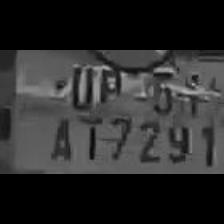1: (195, 113, 219, 167)
2: (132, 114, 160, 166)
5: (146, 68, 176, 116)
7: (103, 109, 131, 163)
9: (164, 119, 190, 163)
A: (45, 111, 75, 163)
P: (96, 56, 124, 106)
T: (74, 113, 102, 162)
U: (66, 60, 98, 112)
